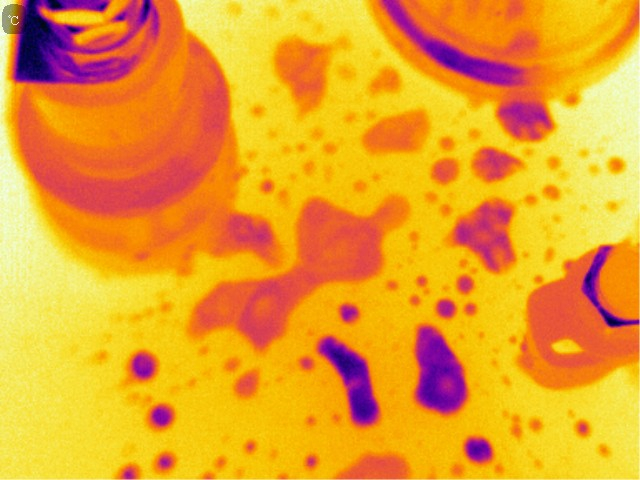Water: (293, 196, 409, 279), (187, 279, 302, 347), (449, 197, 521, 274), (414, 325, 470, 421), (317, 334, 370, 427), (273, 38, 331, 108), (361, 110, 431, 155), (285, 136, 340, 181), (430, 276, 479, 321), (576, 415, 617, 465), (497, 103, 555, 137), (384, 268, 427, 310), (473, 145, 522, 179), (503, 406, 544, 440), (461, 432, 494, 468), (233, 368, 262, 399), (579, 145, 602, 182), (369, 67, 401, 91), (129, 353, 162, 376), (430, 158, 459, 183), (536, 242, 561, 268), (154, 453, 184, 473), (112, 459, 145, 477), (339, 304, 360, 326), (543, 183, 564, 205), (567, 87, 584, 113), (241, 433, 258, 459), (302, 453, 321, 471), (531, 454, 550, 471), (213, 452, 230, 469), (252, 102, 267, 121), (156, 408, 174, 422), (611, 157, 627, 172), (260, 179, 273, 195), (196, 474, 216, 480)
